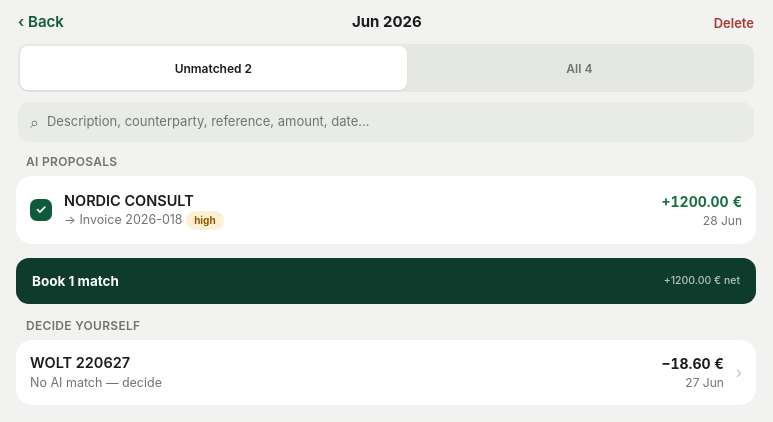
Test: StatementScreen booking › surfaces the server cap error text on booking failure
Check: the checkbox named "select match invoice 2026-018" is shown, box [19,188,63,232]
Click the button "Book 1 match +1200.00 € net". click: click(50, 281)
box: [16,258,756,304]
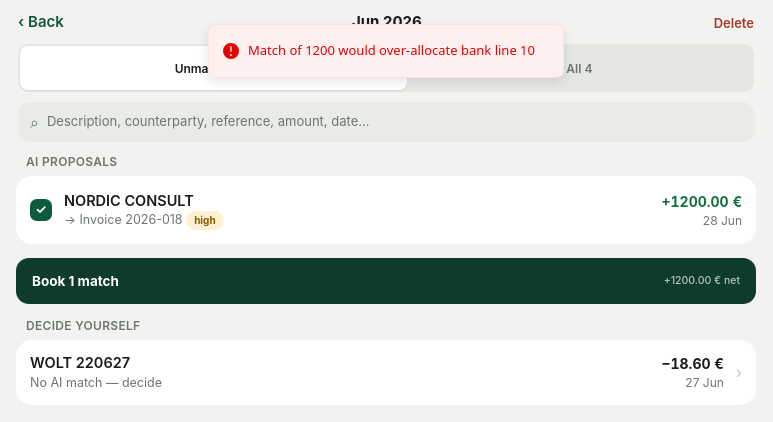
Check: the text "Match of 1200 would over-allocate bank line 10" is shown, box [248,41,535,60]
